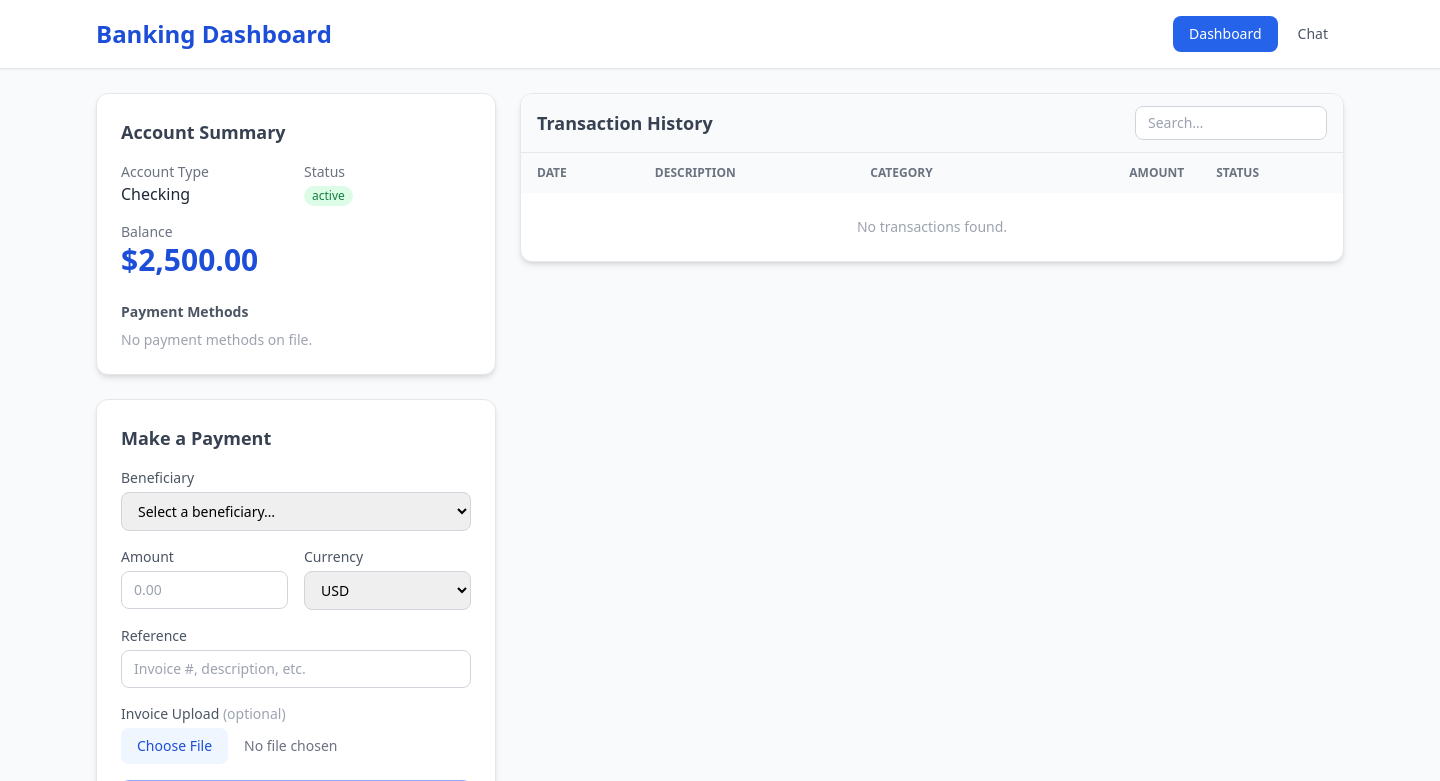
Test: App › switches back to dashboard tab
This screenshot has width=1440, height=781.
Click the button "Chat" at (1313, 34), box x1=1282 y1=16 x2=1344 y2=52
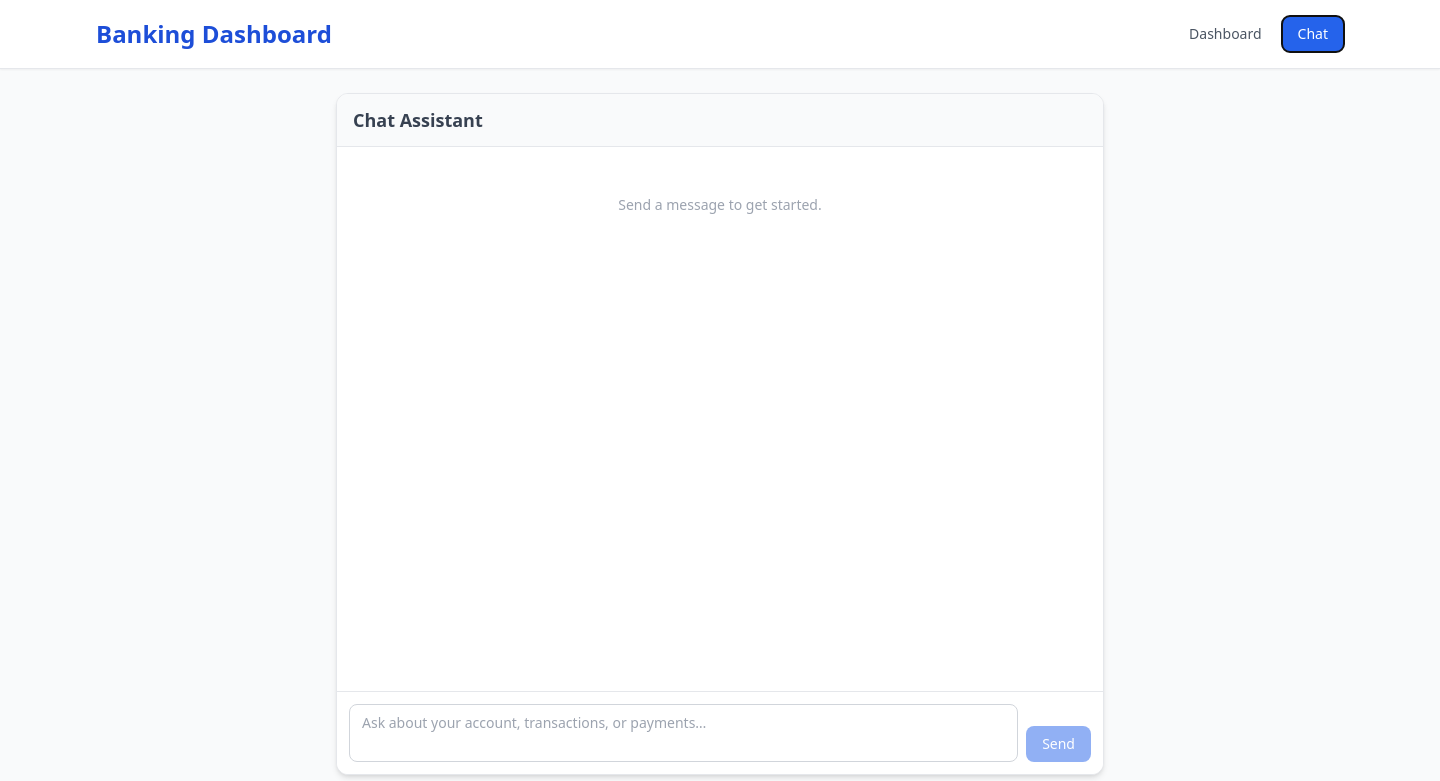
Click the button "Dashboard" at (1225, 34), box x1=1173 y1=16 x2=1278 y2=52
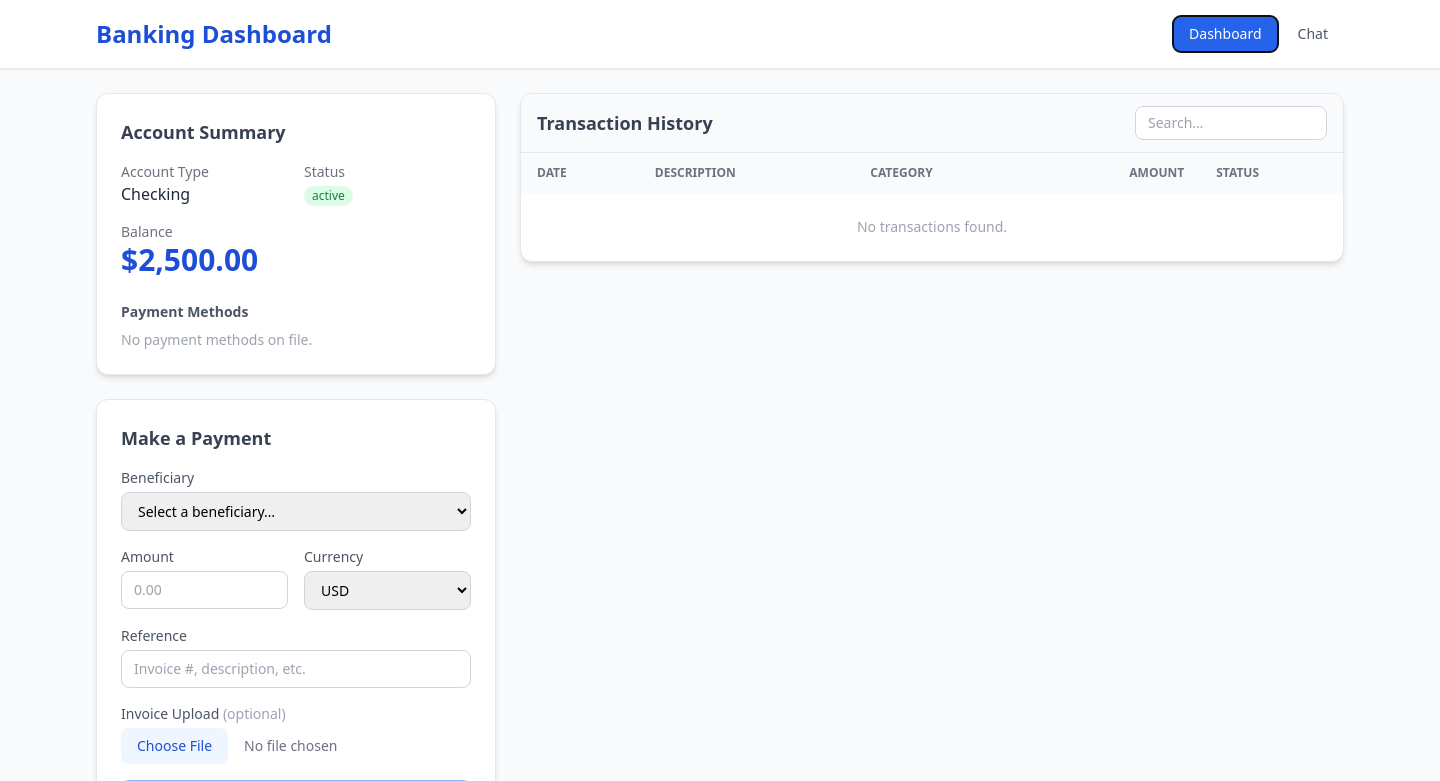
Expected: the heading "Account Summary" is shown, x1=121 y1=120 x2=286 y2=144
